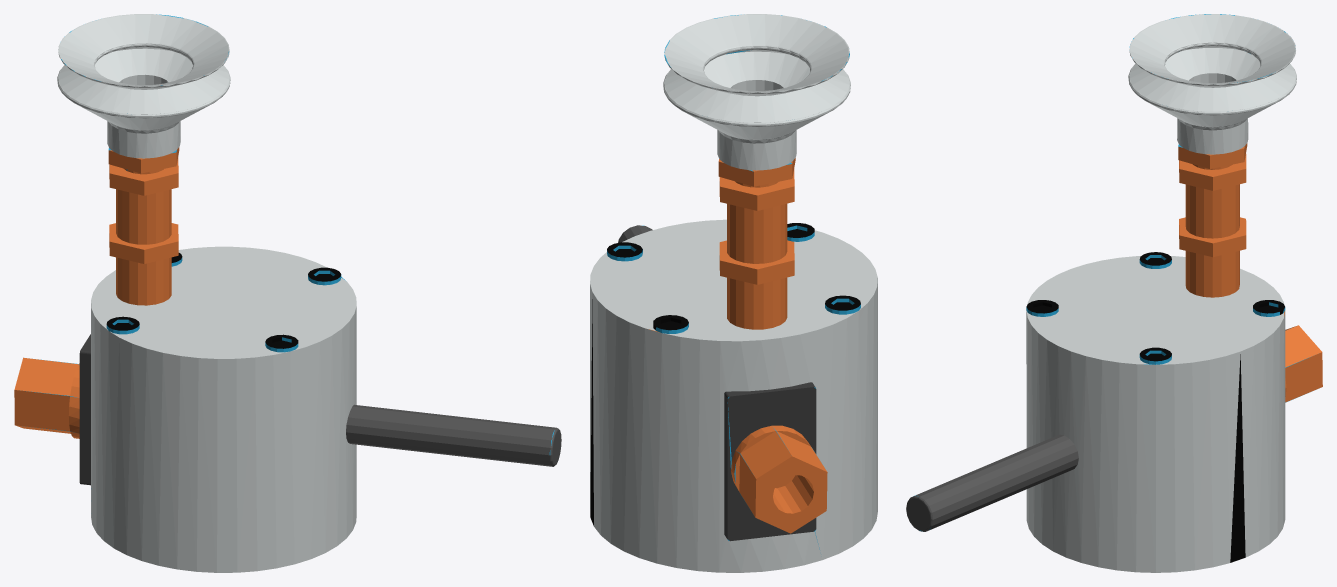
The model's file is vacuum_gripper.dae.
3 renders of one model, left to right at view 1: azimuth 30°, elevation 25°; view 2: azimuth 150°, elevation 25°; view 3: azimuth 270°, elevation 25°, orthographic. The views are drawn at different scales.
Parts seen in each view (by area): view 1: vacuum_gripper; view 2: vacuum_gripper; view 3: vacuum_gripper.
Boxes of the visible parts, x1,y1,x2,y2 form: vacuum_gripper: (14,14,561,572); vacuum_gripper: (590,14,877,572); vacuum_gripper: (906,14,1322,572).
Bounding box in the file's own units: 1.08 × 1.09 × 1.28.
